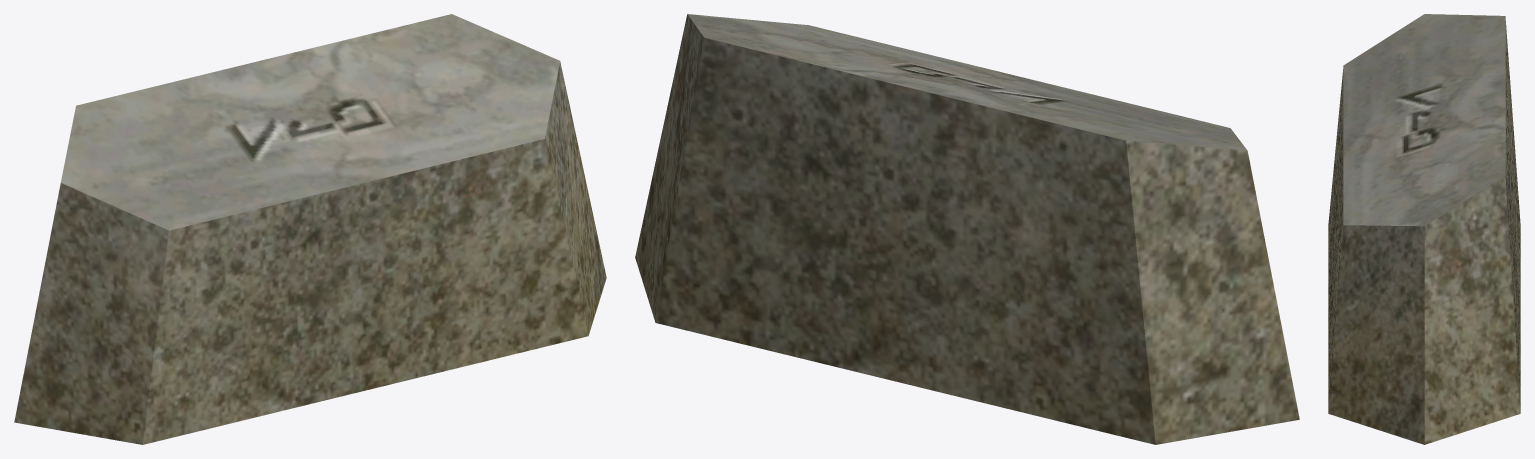
The model's file is thm_all_gravestone_s05_l0.fbx.
The picture shows the model from 3 angles, left to right: view 1: azimuth 30°, elevation 25°; view 2: azimuth 150°, elevation 25°; view 3: azimuth 270°, elevation 25°; orthographic projection. The views are drawn at different scales.
Visible parts, largest first — view 1: mesh_node; view 2: mesh_node; view 3: mesh_node.
Boxes of the visible parts, x1,y1,x2,y2 form: mesh_node: (14,14,606,444); mesh_node: (635,14,1299,444); mesh_node: (1328,14,1520,444).
Bounding box in the file's own units: 0.4793 × 0.1982 × 0.1546.
